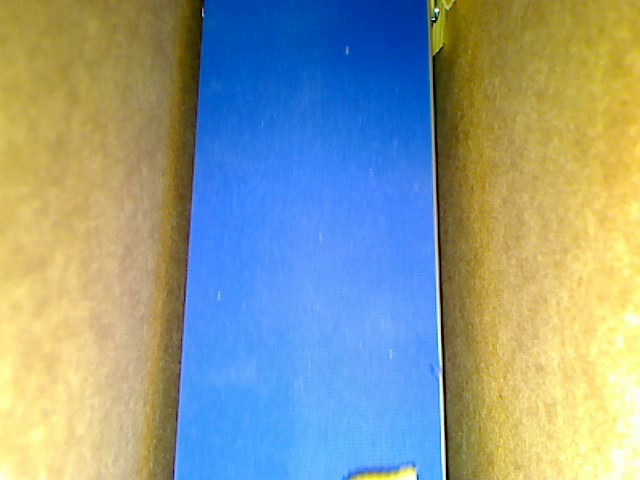penne: (432, 1, 445, 56), (439, 1, 461, 13)
shell: (335, 464, 421, 479)
